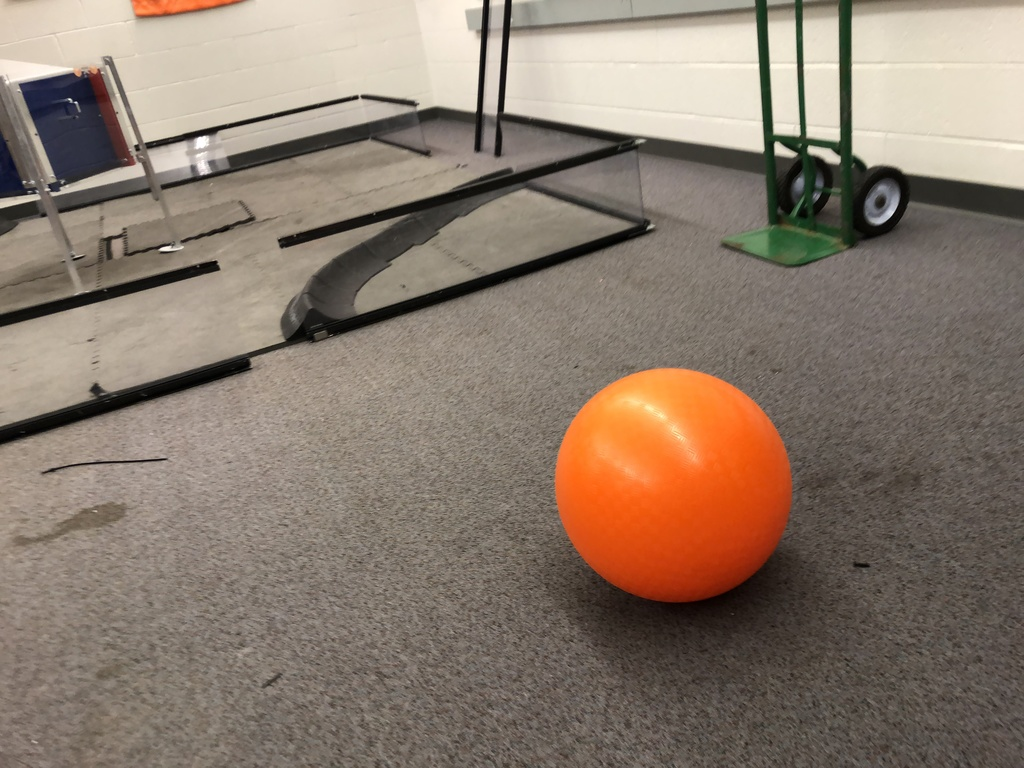cargo: (549, 355, 802, 611)
